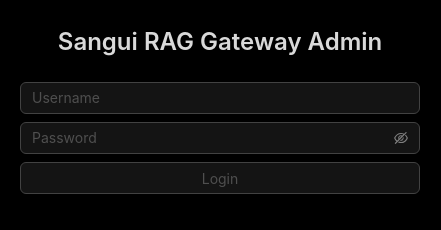
Test: AdminShell › login behavior › shows error message on login failure (401)
Type "admin" into the field with placeholder "Username" at (220, 98), box left=20, top=82, right=420, bottom=114
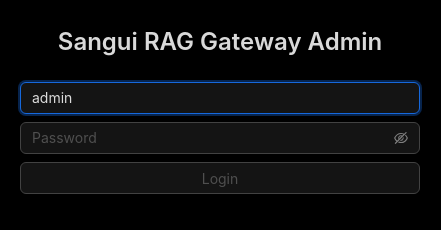
Type "wrong" into the password field with placeholder "Password" at (211, 138), box left=32, top=127, right=390, bottom=149
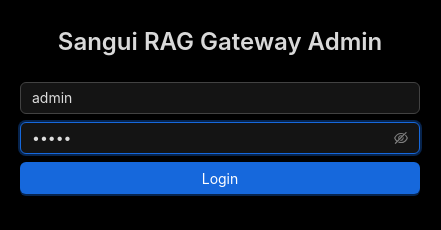
Click the button "Login" at (220, 178), box left=20, top=162, right=420, bottom=194
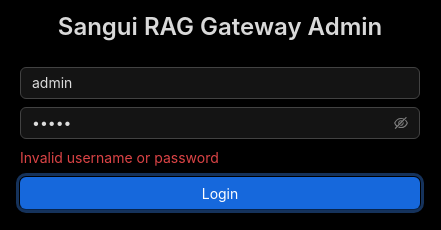
Check: the text "Invalid username or password" is shown, box left=20, top=149, right=219, bottom=166
